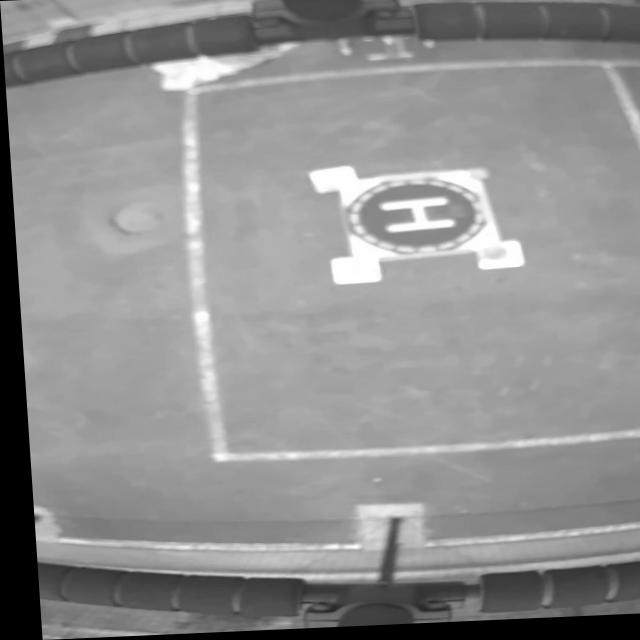Helipad: (377, 200, 453, 236)
